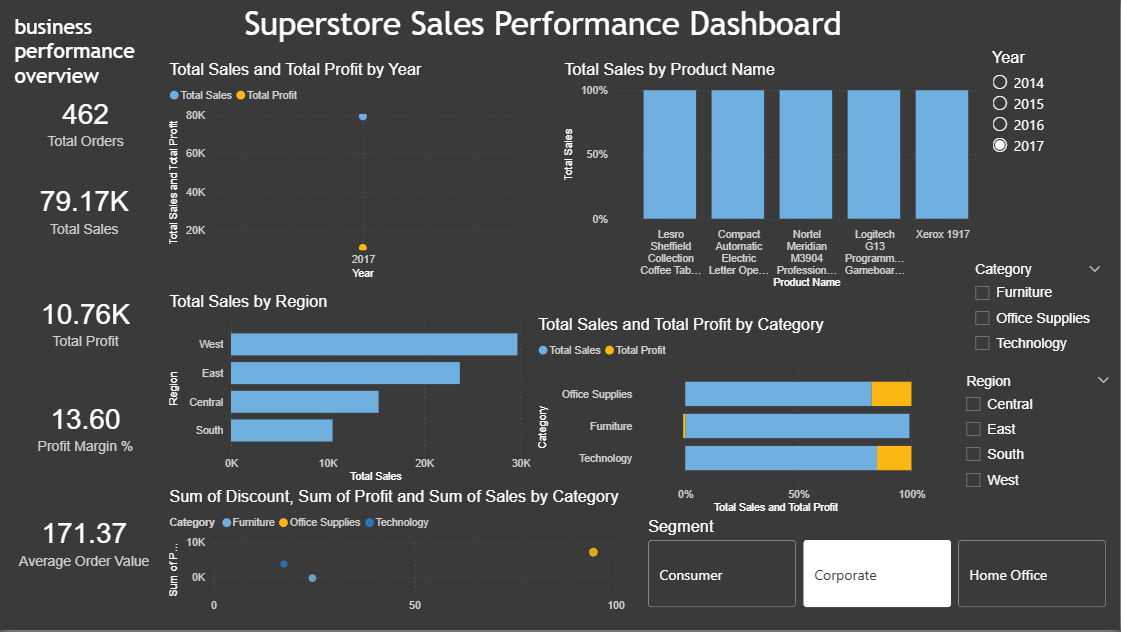

This screenshot's page, from the dashboard's own definition file:
{"tool":"powerbi","page":{"name":"Page 1","canvas":[1280,720],"ordinal":0},"visuals":[{"type":"textbox","box":[274.4,0,693,57.6],"z":0},{"type":"card","fields":{"Values":["cleaned_sale_data.Total Orders"]},"box":[12.3,86.4,170.2,102.9],"z":1},{"type":"card","fields":{"Values":["cleaned_sale_data.Total Sales"]},"box":[11.4,178.6,170,120],"z":2},{"type":"card","fields":{"Values":["cleaned_sale_data.Total Profit"]},"box":[12.9,312.9,170,108.6],"z":3},{"type":"card","fields":{"Values":["cleaned_sale_data.Profit Margin %"]},"box":[12.9,432.9,170,108.6],"z":4},{"type":"card","fields":{"Values":["cleaned_sale_data.Average Order Value"]},"box":[11.4,557.1,170,121.4],"z":5},{"type":"lineChart","fields":{"Category":["cleaned_sale_data.Order Date.Variation.Date Hierarchy.Year","cleaned_sale_data.Order Date.Variation.Date Hierarchy.Quarter","cleaned_sale_data.Order Date.Variation.Date Hierarchy.Month","cleaned_sale_data.Order Date.Variation.Date Hierarchy.Day"],"Y":["cleaned_sale_data.Total Sales","cleaned_sale_data.Total Profit"]},"box":[188,68.6,402.1,255.2],"z":7},{"type":"clusteredBarChart","fields":{"Category":["cleaned_sale_data.Region"],"Y":["cleaned_sale_data.Total Sales"]},"box":[188,334.8,422.6,222.3],"z":8},{"type":"hundredPercentStackedColumnChart","fields":{"Category":["cleaned_sale_data.Product Name"],"Y":["cleaned_sale_data.Total Sales"]},"box":[639.5,68.6,505,266.2],"z":9},{"type":"hundredPercentStackedBarChart","fields":{"Category":["cleaned_sale_data.Category"],"Y":["cleaned_sale_data.Total Sales","cleaned_sale_data.Total Profit"]},"box":[610,360,452.9,231.4],"z":10},{"type":"scatterChart","fields":{"X":["Sum(cleaned_sale_data.Discount)"],"Y":["Sum(cleaned_sale_data.Profit)"],"Size":["Sum(cleaned_sale_data.Sales)"],"Series":["cleaned_sale_data.Category"]},"box":[188,557.1,531,150.9],"z":11},{"type":"slicer","fields":{"Values":["cleaned_sale_data.Region"]},"box":[1091.4,421.4,188.6,185.7],"z":12},{"type":"slicer","fields":{"Values":["cleaned_sale_data.Category"]},"box":[1101.4,294.3,168.6,117.1],"z":13},{"type":"listSlicer","fields":{"Values":["cleaned_sale_data.Year"]},"box":[1128.6,55.7,115.7,224.3],"z":14},{"type":"advancedSlicerVisual","fields":{"Values":["cleaned_sale_data.Segment"]},"box":[735.7,591.4,534.3,108.6],"z":15},{"type":"textbox","box":[11.4,11.4,148.6,95.7],"z":16}]}

Visuals, with their boxes in screenshot pixels (x1, y1, x2, y2), scaled from the page's 1280x720 canvas onto the 1121x632 screenshot:
textbox: (240, 0, 847, 51)
card - cleaned_sale_data.Total Orders: (11, 76, 160, 166)
card - cleaned_sale_data.Total Sales: (10, 157, 159, 262)
card - cleaned_sale_data.Total Profit: (11, 275, 160, 370)
card - cleaned_sale_data.Profit Margin %: (11, 380, 160, 475)
card - cleaned_sale_data.Average Order Value: (10, 489, 159, 596)
lineChart - cleaned_sale_data.Order Date.Variation.Date Hierarchy.Year x cleaned_sale_data.Order Date.Variation.Date Hierarchy.Quarter: (165, 60, 517, 284)
clusteredBarChart - cleaned_sale_data.Region x cleaned_sale_data.Total Sales: (165, 294, 535, 489)
hundredPercentStackedColumnChart - cleaned_sale_data.Product Name x cleaned_sale_data.Total Sales: (560, 60, 1002, 294)
hundredPercentStackedBarChart - cleaned_sale_data.Category x cleaned_sale_data.Total Sales: (534, 316, 931, 519)
scatterChart - Sum(cleaned_sale_data.Discount) x Sum(cleaned_sale_data.Profit): (165, 489, 630, 621)
slicer - cleaned_sale_data.Region: (956, 370, 1120, 533)
slicer - cleaned_sale_data.Category: (965, 258, 1112, 361)
listSlicer - cleaned_sale_data.Year: (988, 49, 1090, 246)
advancedSlicerVisual - cleaned_sale_data.Segment: (644, 519, 1112, 614)
textbox: (10, 10, 140, 94)
